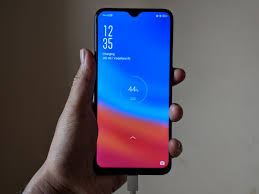oppo: (95, 4, 174, 176)
